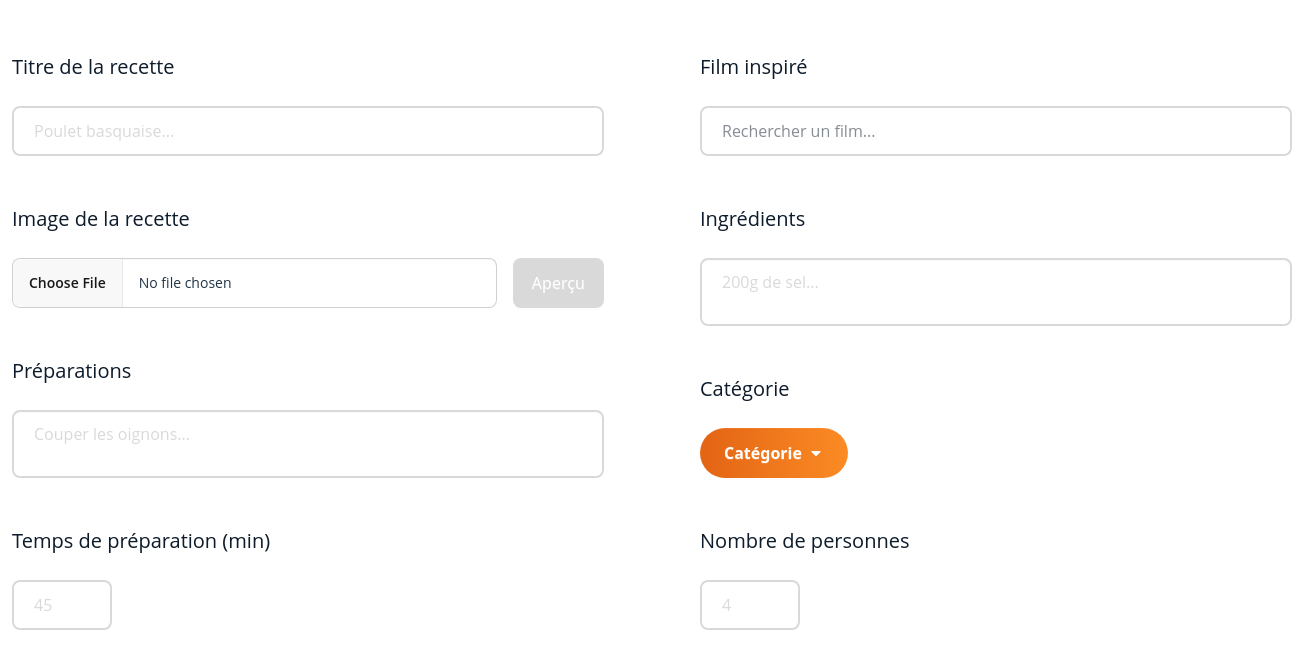
Add Recipe Form › should not submit if the recipe title is greater than 100 characters
The width and height of the screenshot is (1304, 665).
In the field labelled "Titre de la recette": {"x": 308, "y": 131} [12, 106, 604, 156], type "Délicieux Poulet rôti aux herbes fraîches et légumes de saison, servi avec une sauce crémeuse onctueuse"
(page scrolled)
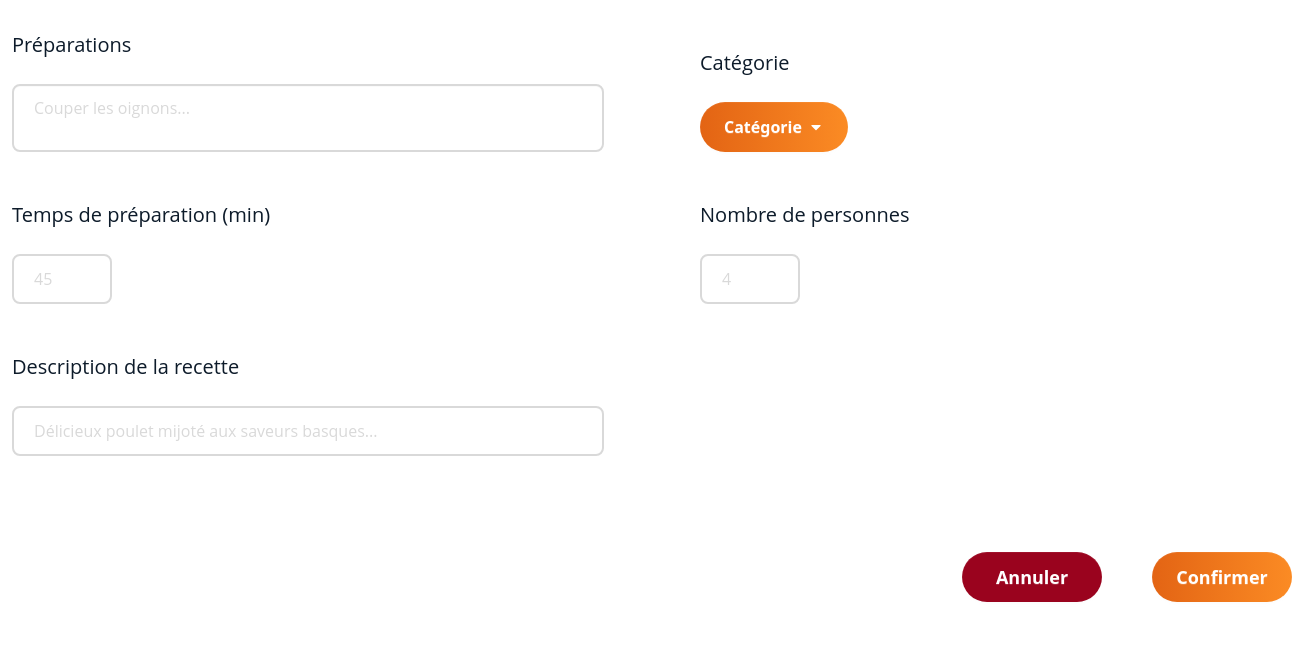
Click the button "Confirmer": {"x": 1222, "y": 577} [1152, 552, 1292, 602]
(page scrolled)
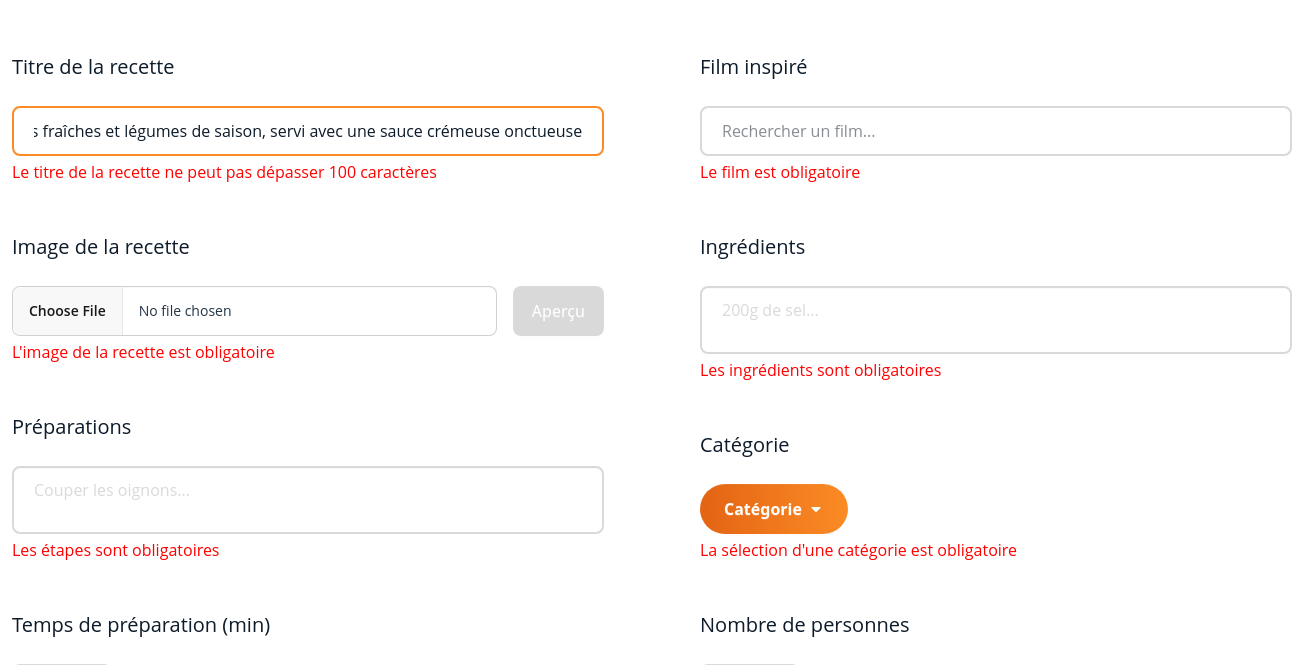
Now the message "Le titre de la recette ne peut pas dépasser 100 caractères" is shown, box [12, 161, 437, 183]
